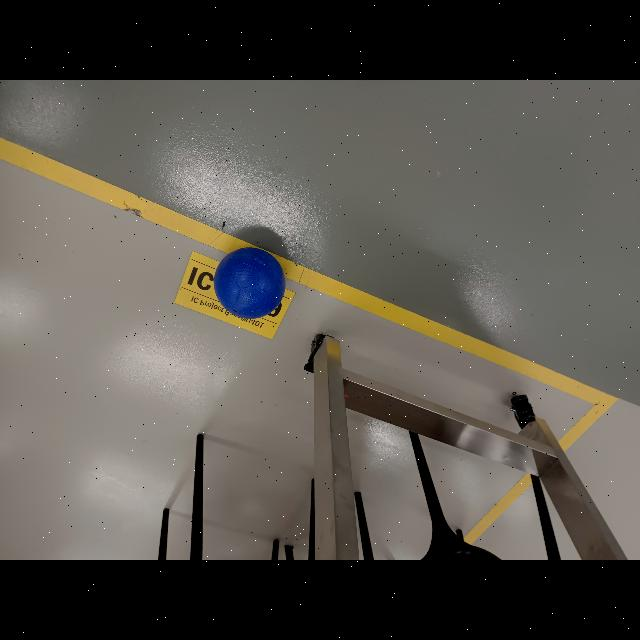B: (213, 249, 284, 319)
